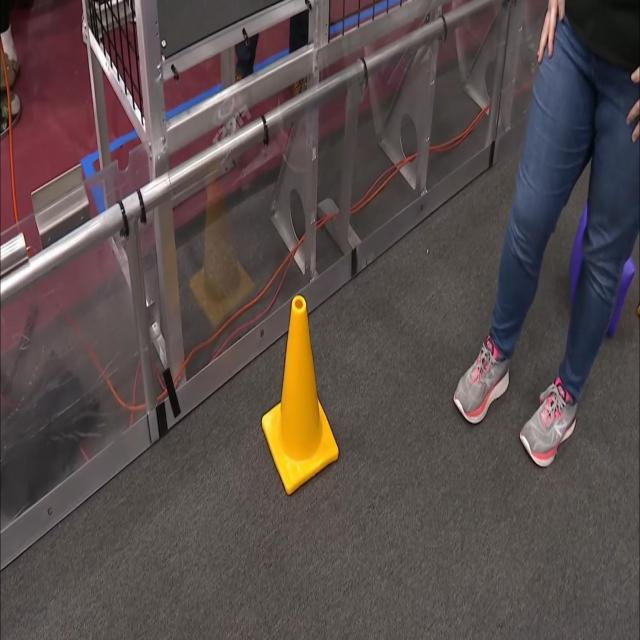frc_cone: (259, 298, 335, 494)
frc_cube: (576, 206, 637, 336)
